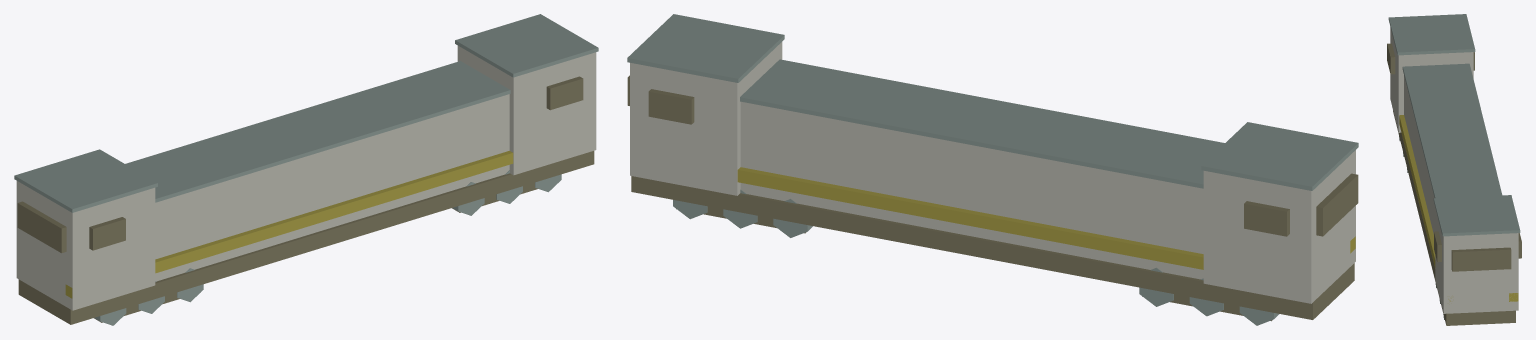
Rendered from SM_Locomotora_v0_Descarrilada_LOD1.fbx.
The picture shows the model from 3 angles, left to right: view 1: azimuth 30°, elevation 25°; view 2: azimuth 150°, elevation 25°; view 3: azimuth 270°, elevation 25°; orthographic projection. The views are drawn at different scales.
Parts seen in each view (by area): view 1: SM_aqui_paso_algo_v0_LOD1; view 2: SM_aqui_paso_algo_v0_LOD1; view 3: SM_aqui_paso_algo_v0_LOD1.
Boxes of the visible parts, x1,y1,x2,y2 form: SM_aqui_paso_algo_v0_LOD1: (14, 14, 598, 325); SM_aqui_paso_algo_v0_LOD1: (627, 14, 1358, 325); SM_aqui_paso_algo_v0_LOD1: (1387, 14, 1521, 325).
Bounding box in the file's own units: 19.5 × 4.32 × 5.
